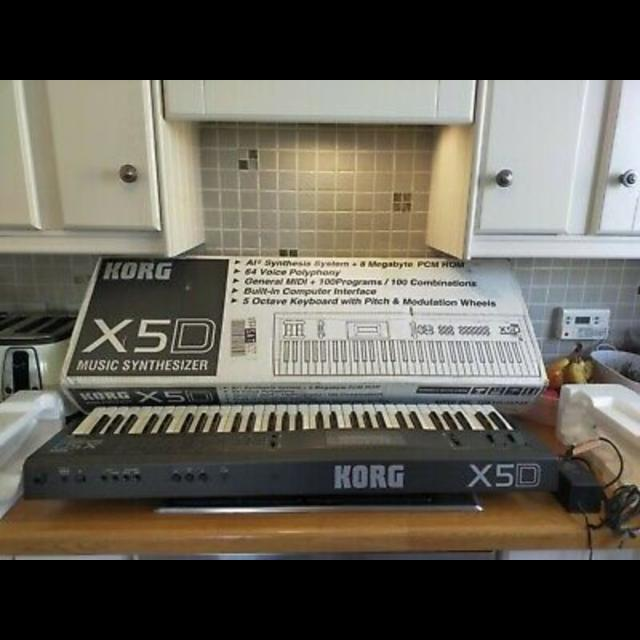Electronic-Keyboard: (21, 398, 563, 502)
